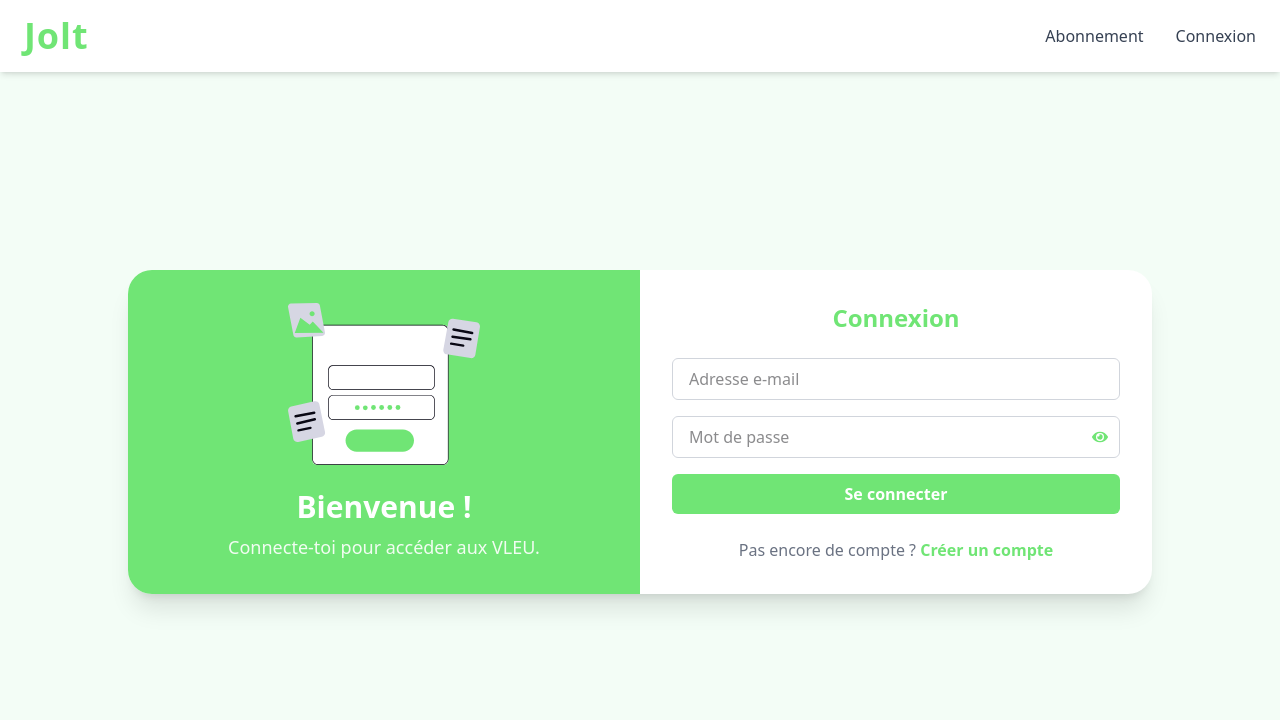
Test case: Page Auth - Login et Inscription Web (mock complet) › affiche une erreur si les mots de passe ne correspondent pas
The image size is (1280, 720).
Click the button "Créer un compte".
click(987, 550)  # box [920,538,1053,562]
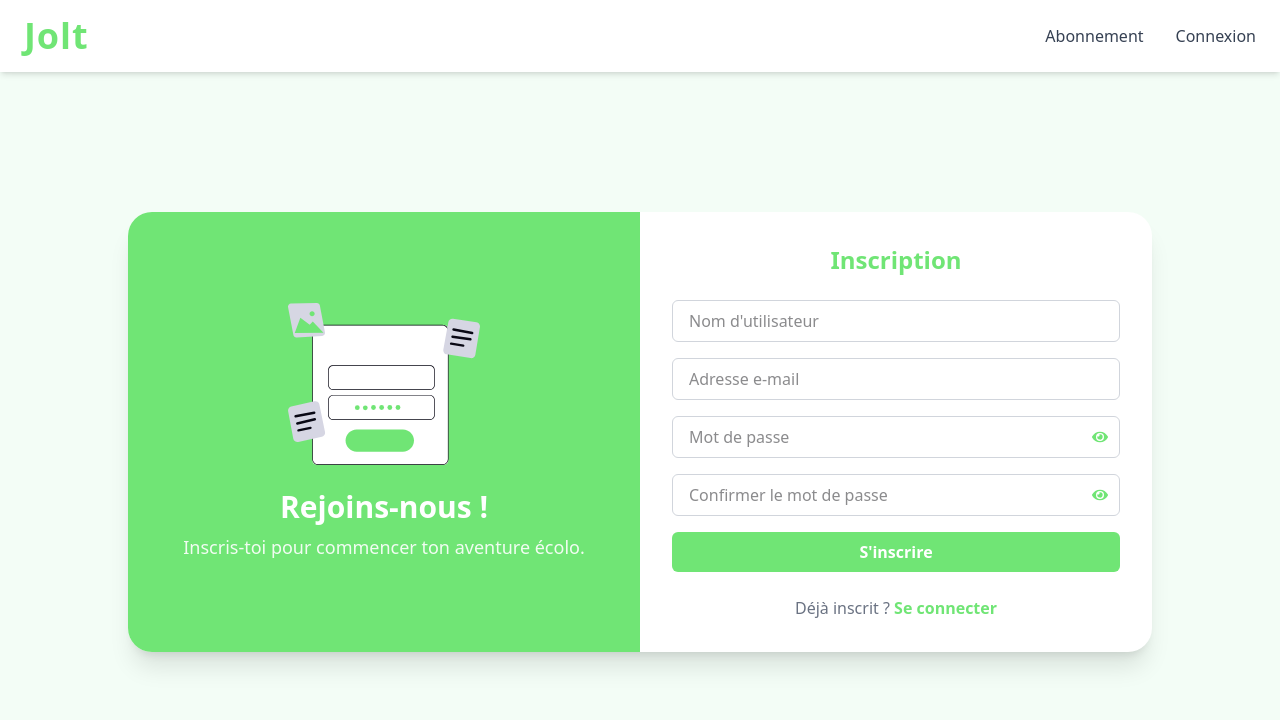
Type "nouvelutilisateur" into the field with placeholder "Nom d".
click(896, 321); type("nouvelutilisateur")  # box [672,300,1120,342]
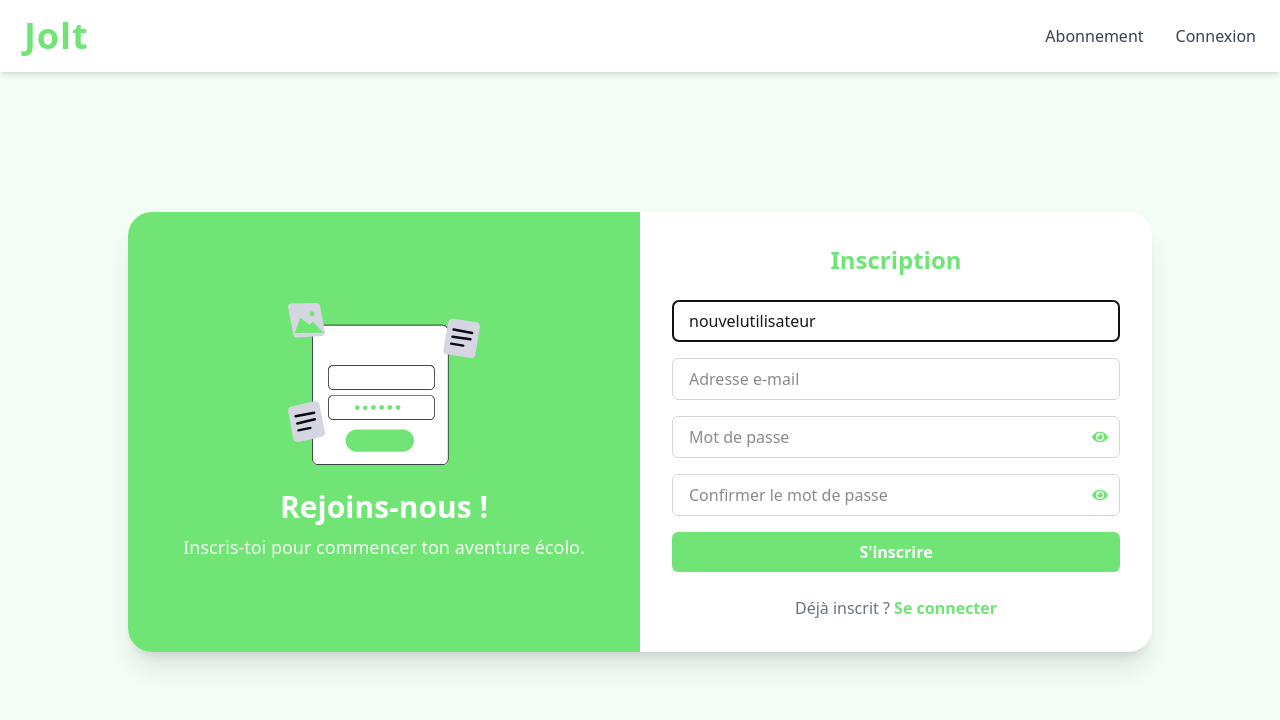
Type "nouveau@test.com" into the field with placeholder "Adresse e-mail".
click(896, 379); type("nouveau@test.com")  # box [672,358,1120,400]
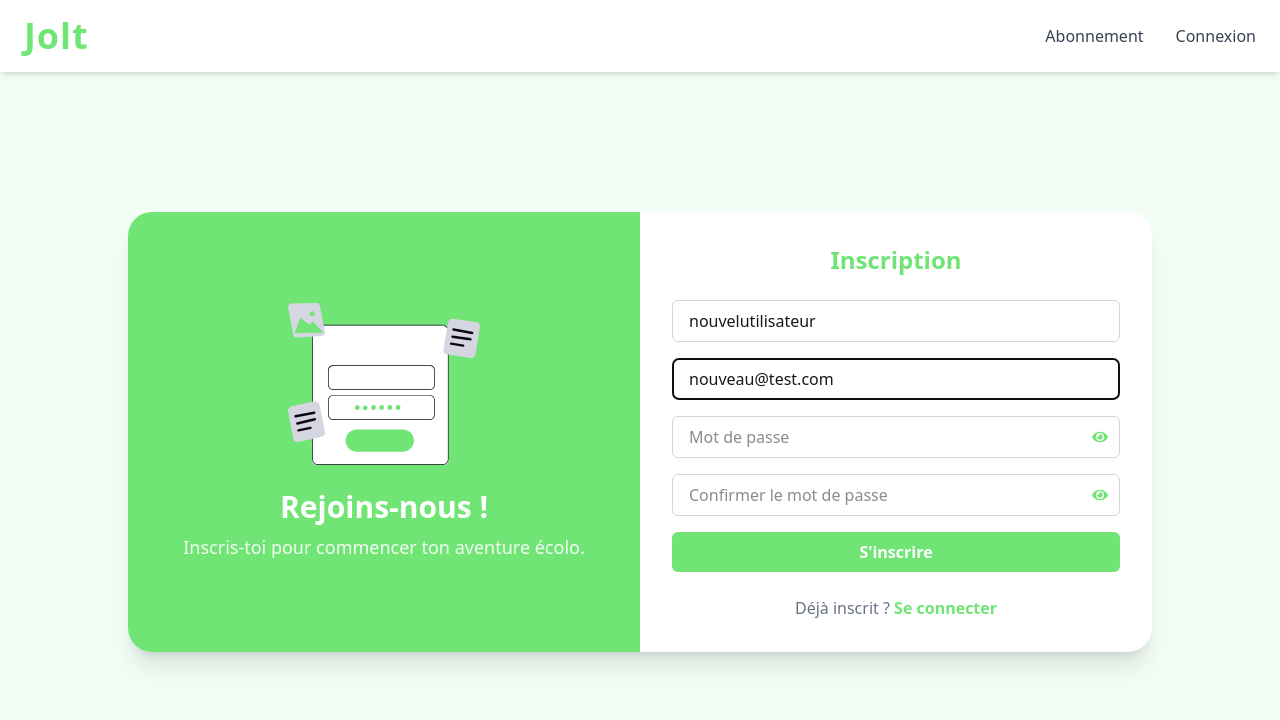
Type "Test1234!" into the password field with placeholder "Mot de passe".
click(896, 437); type("Test1234!")  # box [672,416,1120,458]
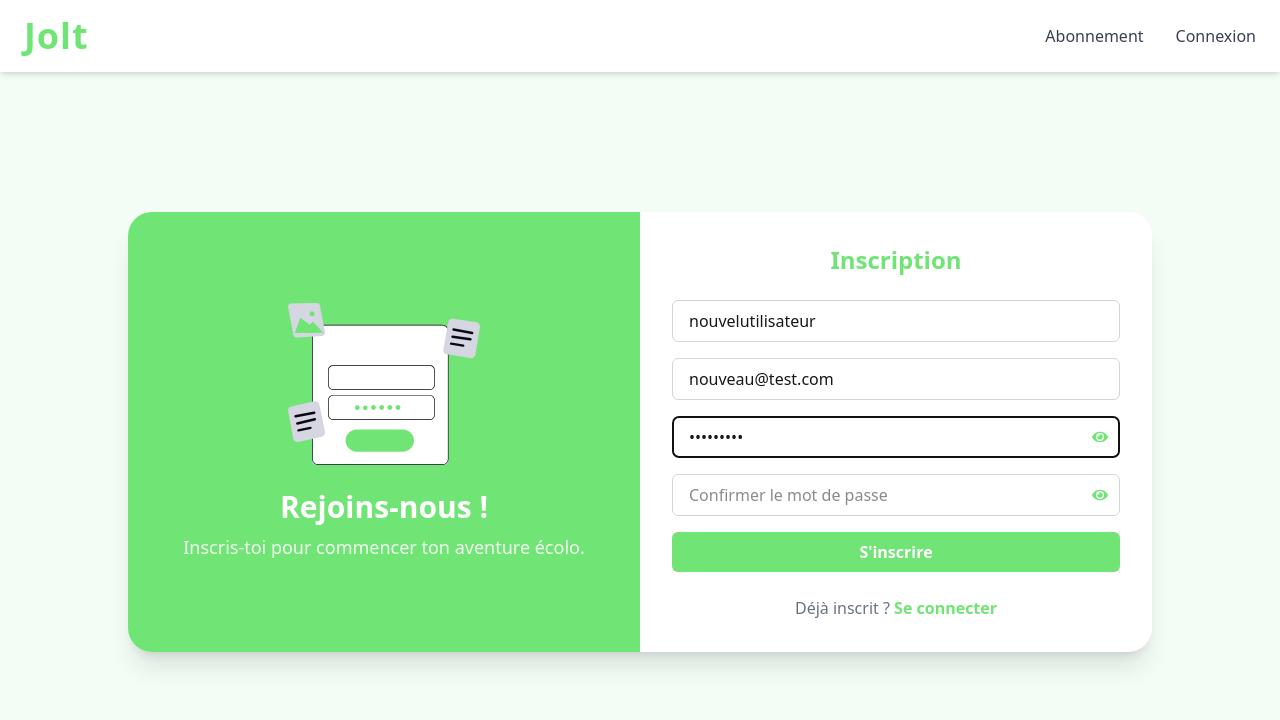
Type "AutreMot2Passe!" into the password field with placeholder "Confirmer le mot de passe".
click(896, 495); type("AutreMot2Passe!")  # box [672,474,1120,516]
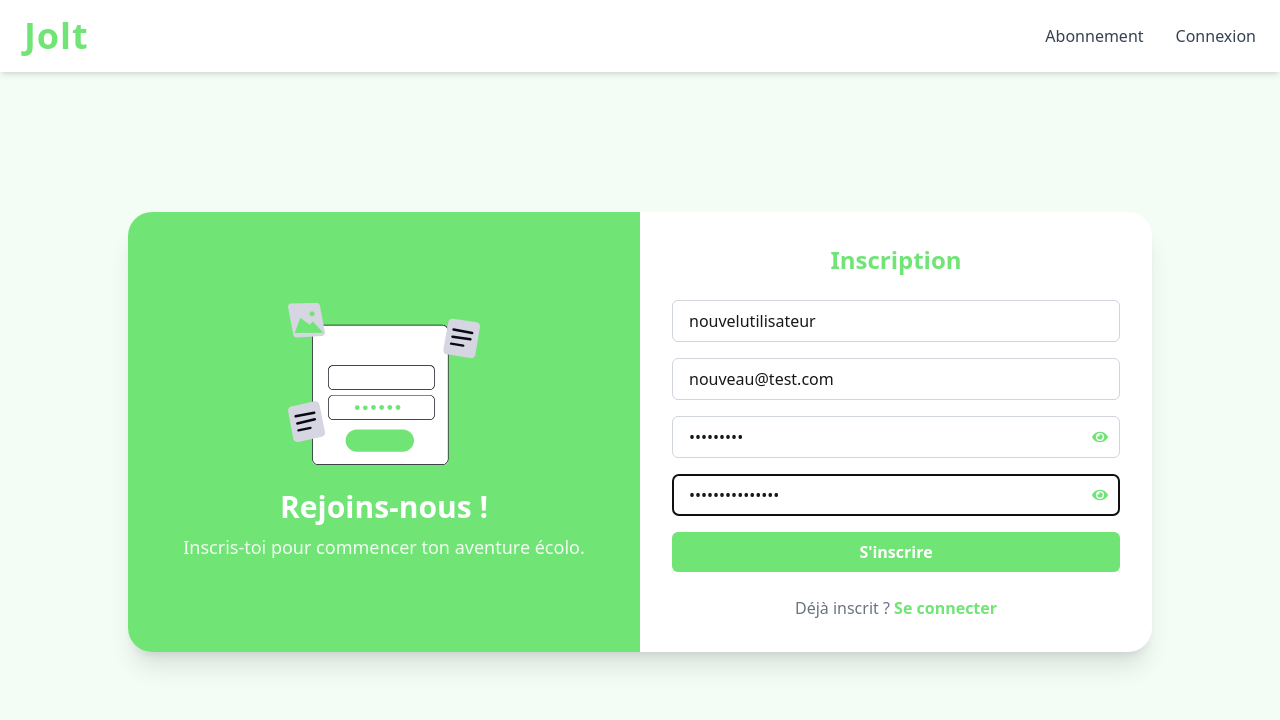
Click the submit button.
click(896, 552)  # box [672,532,1120,572]
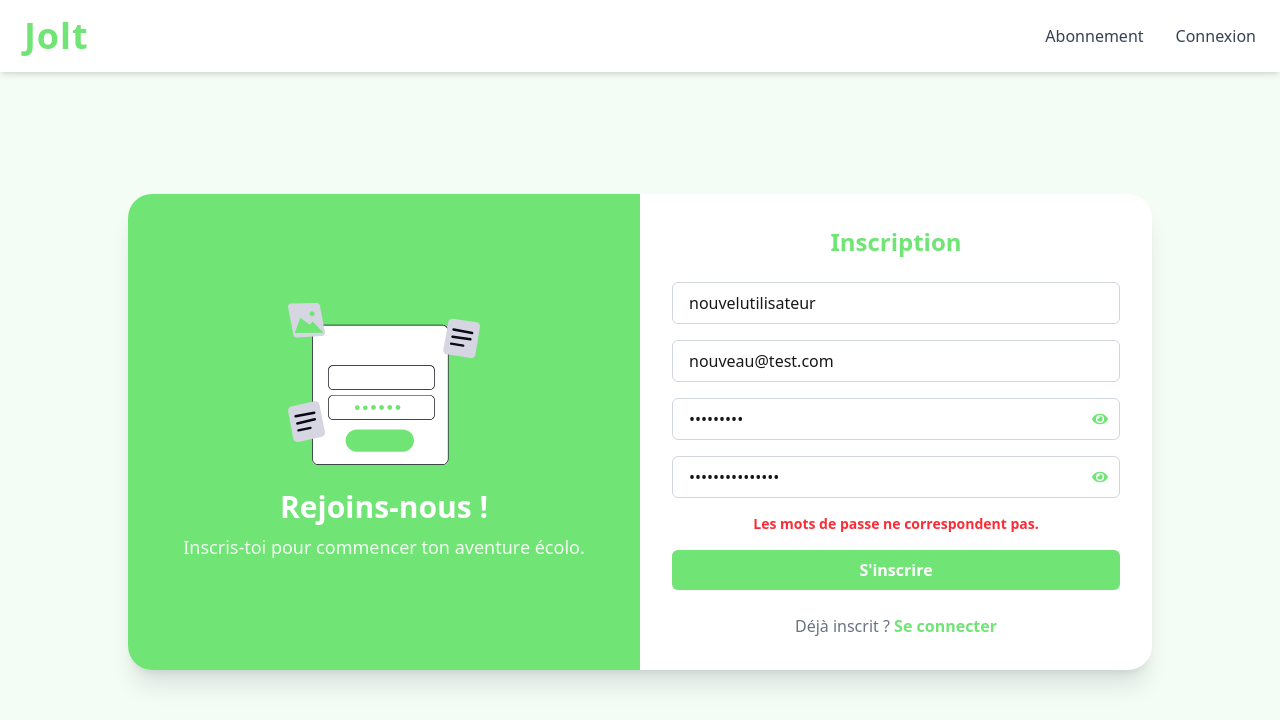
Check: the text "Les mots de passe ne correspondent pas." is shown, box [753,514,1039,533]
